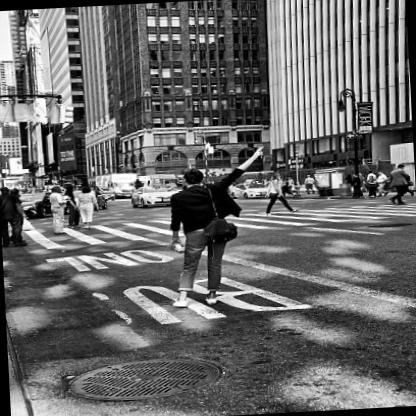manholes: (45, 334, 236, 414)
